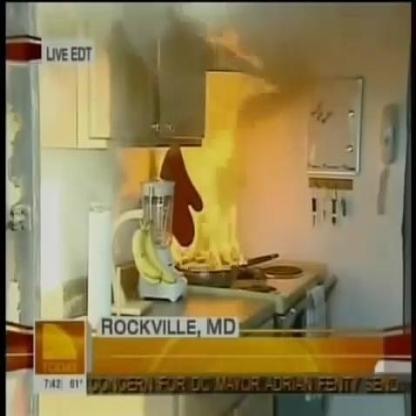fire: (160, 26, 278, 270)
